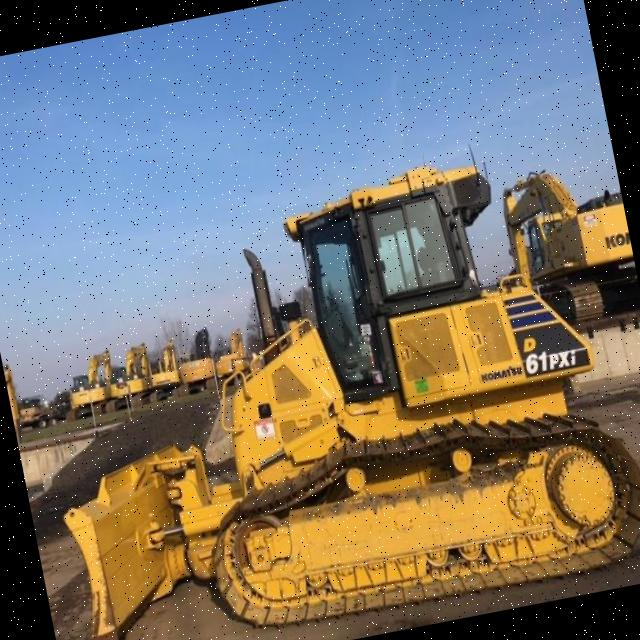Bulldozer: (0, 125, 640, 640)
